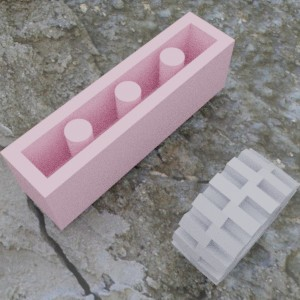lego: (0, 11, 235, 230), (171, 148, 300, 285)
